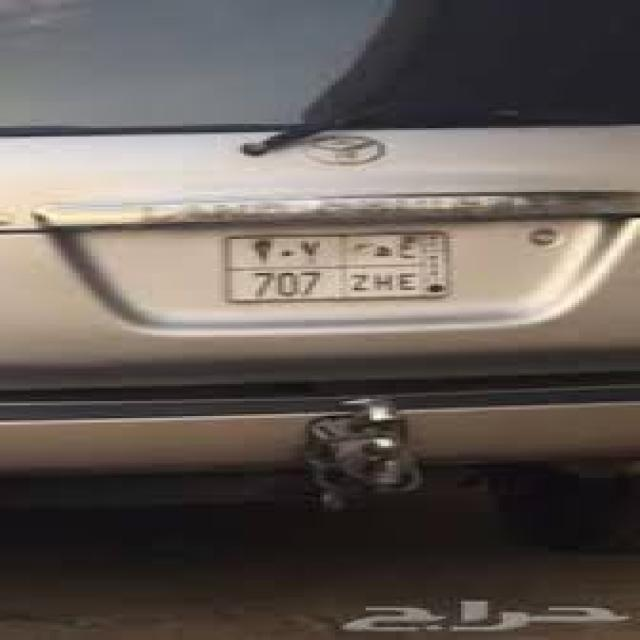license_plate: (217, 230, 457, 305)
